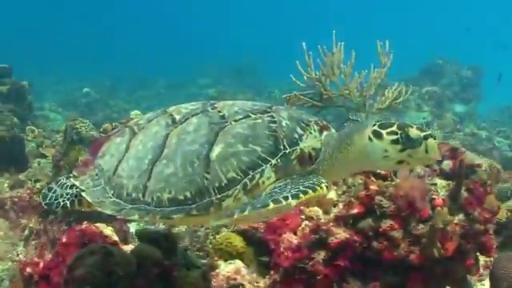Fish: (41, 101, 439, 224)
